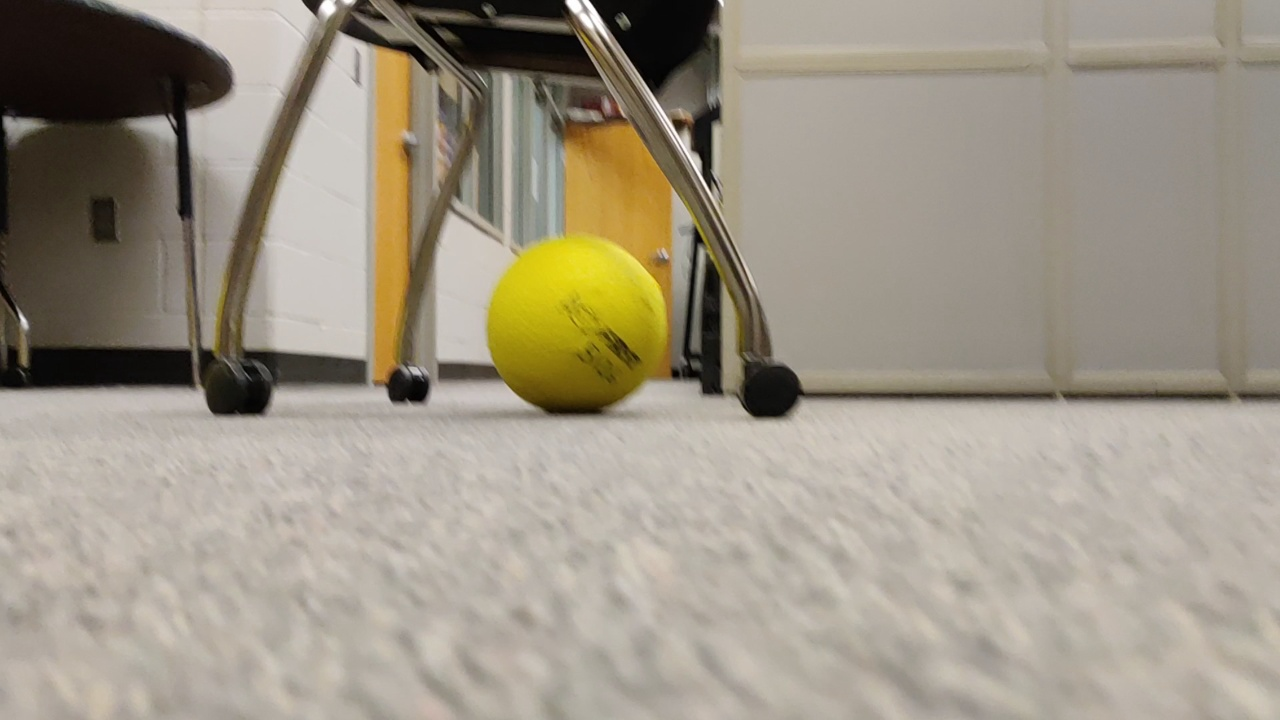Ball: (487, 236, 670, 411)
